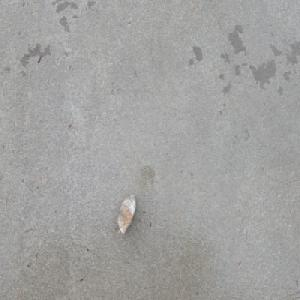Rock: (116, 192, 136, 237)
